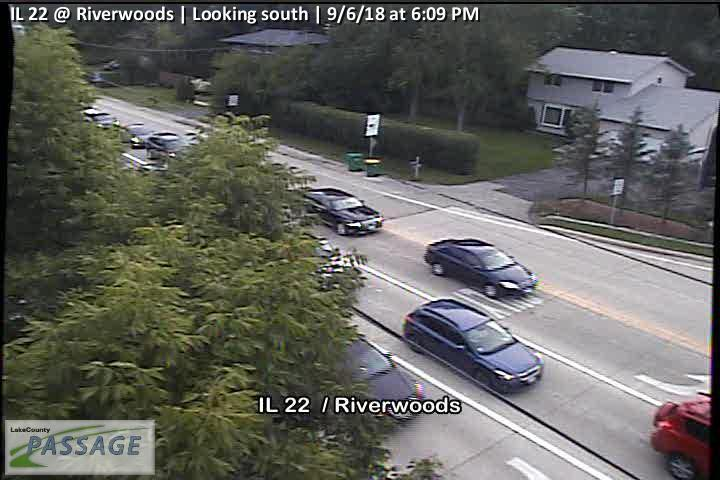SUV: (405, 299, 543, 394), (146, 131, 185, 161), (79, 107, 119, 131)
Sedan: (309, 329, 424, 427), (424, 238, 537, 300), (296, 188, 384, 236), (120, 123, 151, 148)
